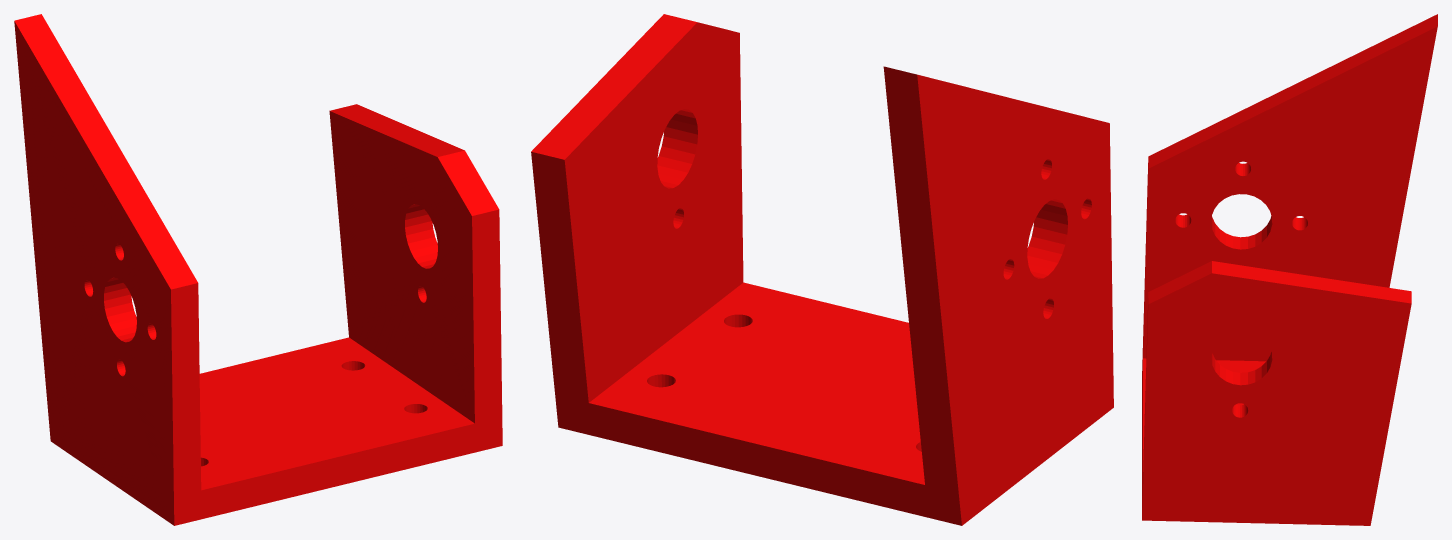
Rendered from elbow_left.dae.
3 renders of one model, left to right at view 1: azimuth 30°, elevation 25°; view 2: azimuth 150°, elevation 25°; view 3: azimuth 270°, elevation 25°, orthographic. The views are drawn at different scales.
Visible parts, largest first — view 1: node0; view 2: node0; view 3: node0.
Part boxes in pixels (left/top/right/bottom): node0: left=14, top=14, right=502, bottom=525; node0: left=531, top=14, right=1113, bottom=525; node0: left=1142, top=14, right=1437, bottom=525.
Size of the model in its own units: 48 by 40.52 by 55.02.
